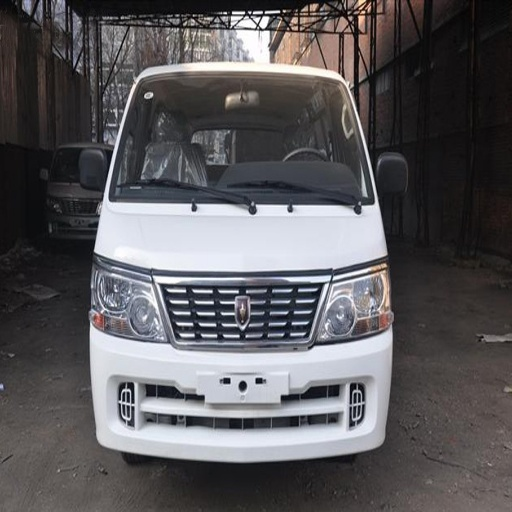front_bumper: (91, 271, 390, 460)
front_right_light: (94, 253, 165, 342)
hood: (100, 201, 385, 274)
